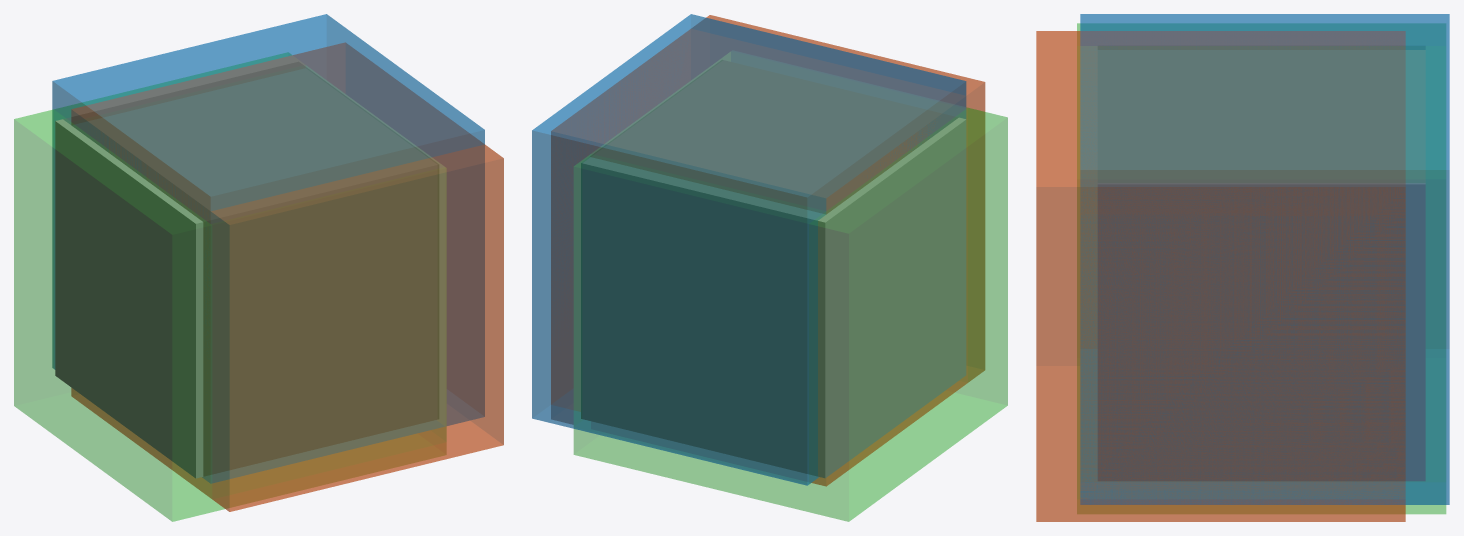
File: SM_ColorBleed_Test_1 1.fbx
3 views of the same model, side by side, from view 1: azimuth 30°, elevation 25°; view 2: azimuth 150°, elevation 25°; view 3: azimuth 270°, elevation 25° (orthographic). The views are drawn at different scales.
Parts seen in each view (by area): view 1: pCube3, pCube1, pCube4, pCube2; view 2: pCube1, pCube4, pCube2, pCube3; view 3: pCube3, pCube4, pCube1, pCube2.
Part boxes in pixels (<box>): pCube3: <box>71,42,503,511</box>; pCube1: <box>55,62,438,478</box>; pCube4: <box>52,14,484,483</box>; pCube2: <box>14,52,446,521</box>; pCube1: <box>581,60,966,478</box>; pCube4: <box>532,14,966,485</box>; pCube2: <box>574,52,1007,521</box>; pCube3: <box>551,15,985,486</box>; pCube3: <box>1036,31,1405,521</box>; pCube4: <box>1080,14,1449,504</box>; pCube1: <box>1098,46,1425,481</box>; pCube2: <box>1077,23,1445,513</box>.
Size of the model in its own units: 0.0129 by 0.0123 by 0.0126.
